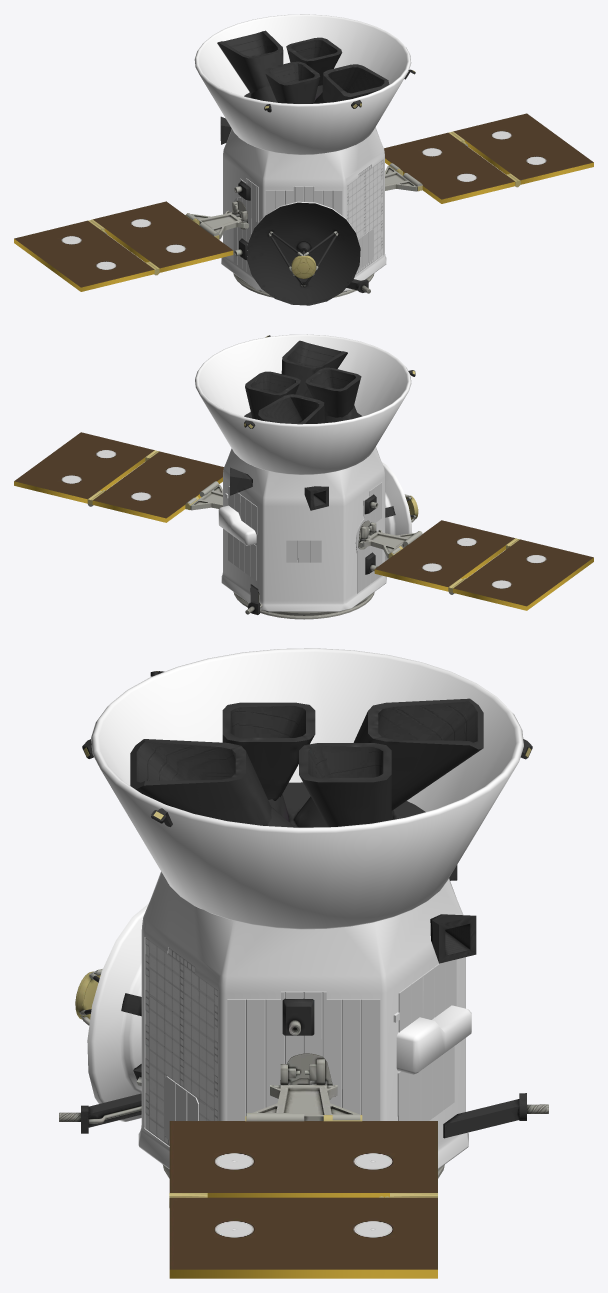
The model's file is TESS.gltf.
3 renders of one model, top to bottom at view 1: azimuth 30°, elevation 25°; view 2: azimuth 150°, elevation 25°; view 3: azimuth 270°, elevation 25°, orthographic. The views are drawn at different scales.
Parts seen in each view (by area): view 1: instruments, BUS, reflectors; view 2: BUS, instruments, reflectors; view 3: BUS, instruments, reflectors.
Part boxes in pixels (x1,y1,x2,y2): instruments: [14, 30, 593, 305]; BUS: [194, 14, 411, 291]; reflectors: [233, 178, 373, 275]; BUS: [195, 334, 412, 611]; instruments: [14, 335, 593, 619]; reflectors: [228, 482, 382, 593]; BUS: [87, 648, 523, 1168]; instruments: [59, 671, 548, 1278]; reflectors: [164, 959, 456, 1140].
Bounding box in the file's own units: 7.39 × 3.1 × 3.06.
6 materials, 2 textured.
